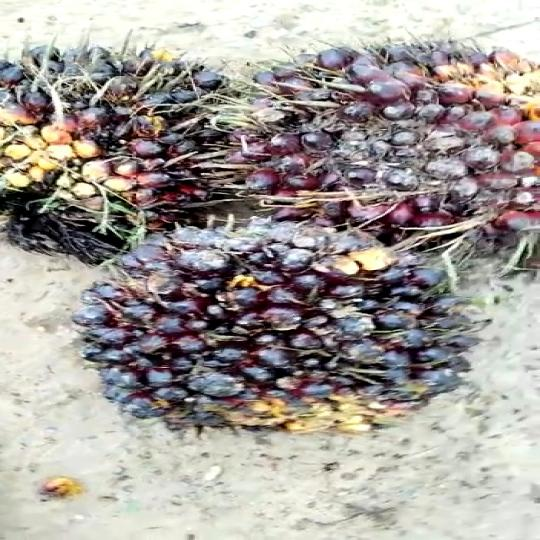kurang masak: (84, 212, 470, 458), (234, 36, 540, 266), (0, 41, 242, 261)
